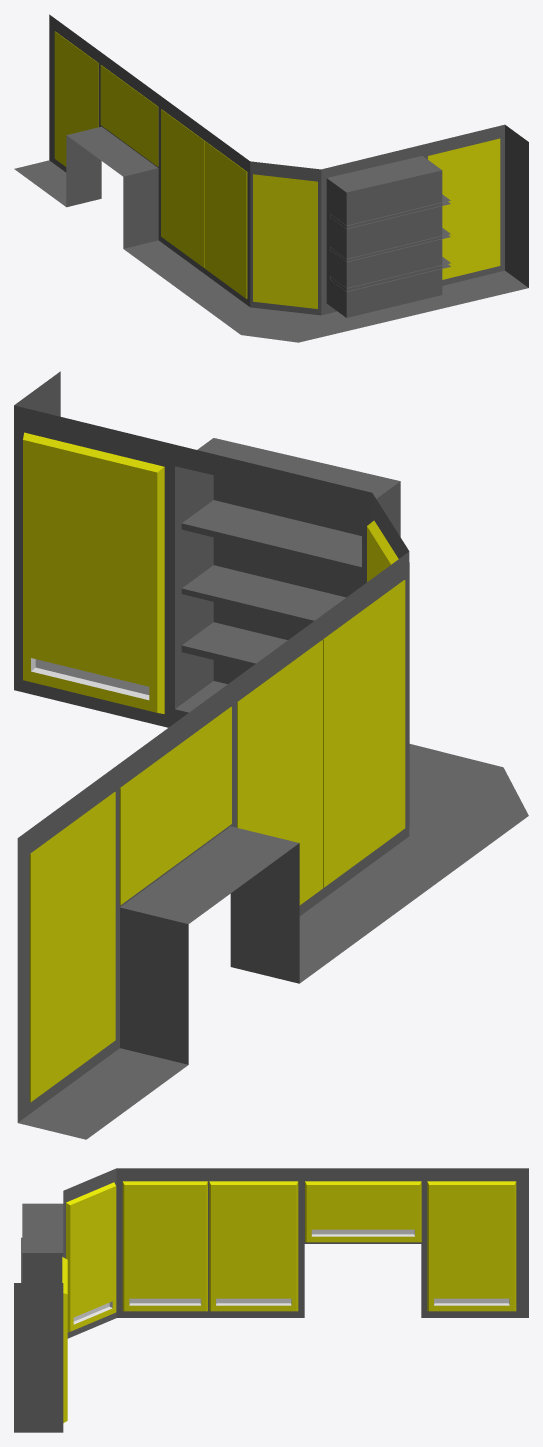
Rendered from Bar_Cupboard.fbx.
3 views of the same model, one above another, from view 1: azimuth 30°, elevation 25°; view 2: azimuth 150°, elevation 25°; view 3: azimuth 270°, elevation 25° (orthographic). The views are drawn at different scales.
Visible parts, largest first — view 1: Bar_Cupboard; view 2: Bar_Cupboard; view 3: Bar_Cupboard.
Part boxes in pixels (x1=…): Bar_Cupboard: x1=14, y1=14, x2=528, y2=342; Bar_Cupboard: x1=14, y1=371, x2=528, y2=1139; Bar_Cupboard: x1=14, y1=1168, x2=528, y2=1432.
Bounding box in the file's own units: 333 × 176 × 549.
